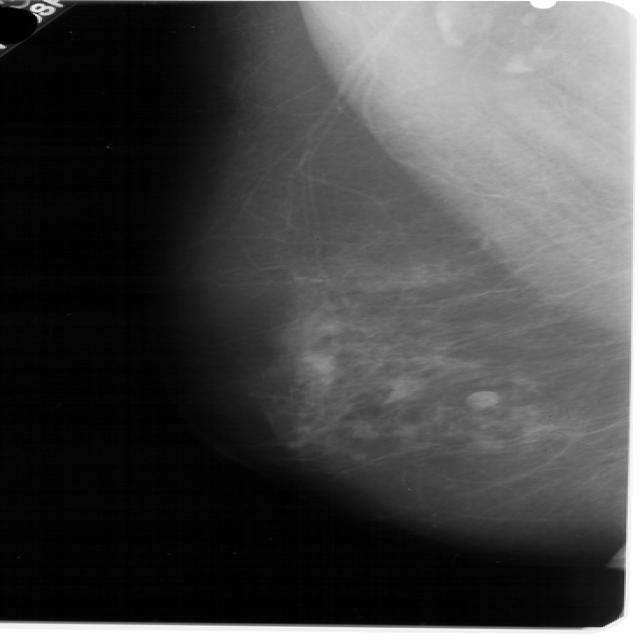tumour: (463, 389, 496, 408)
